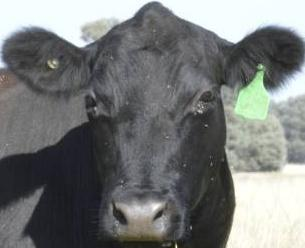muzzles: (94, 184, 190, 242)
